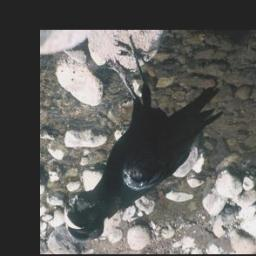Crow: (63, 36, 222, 244)
